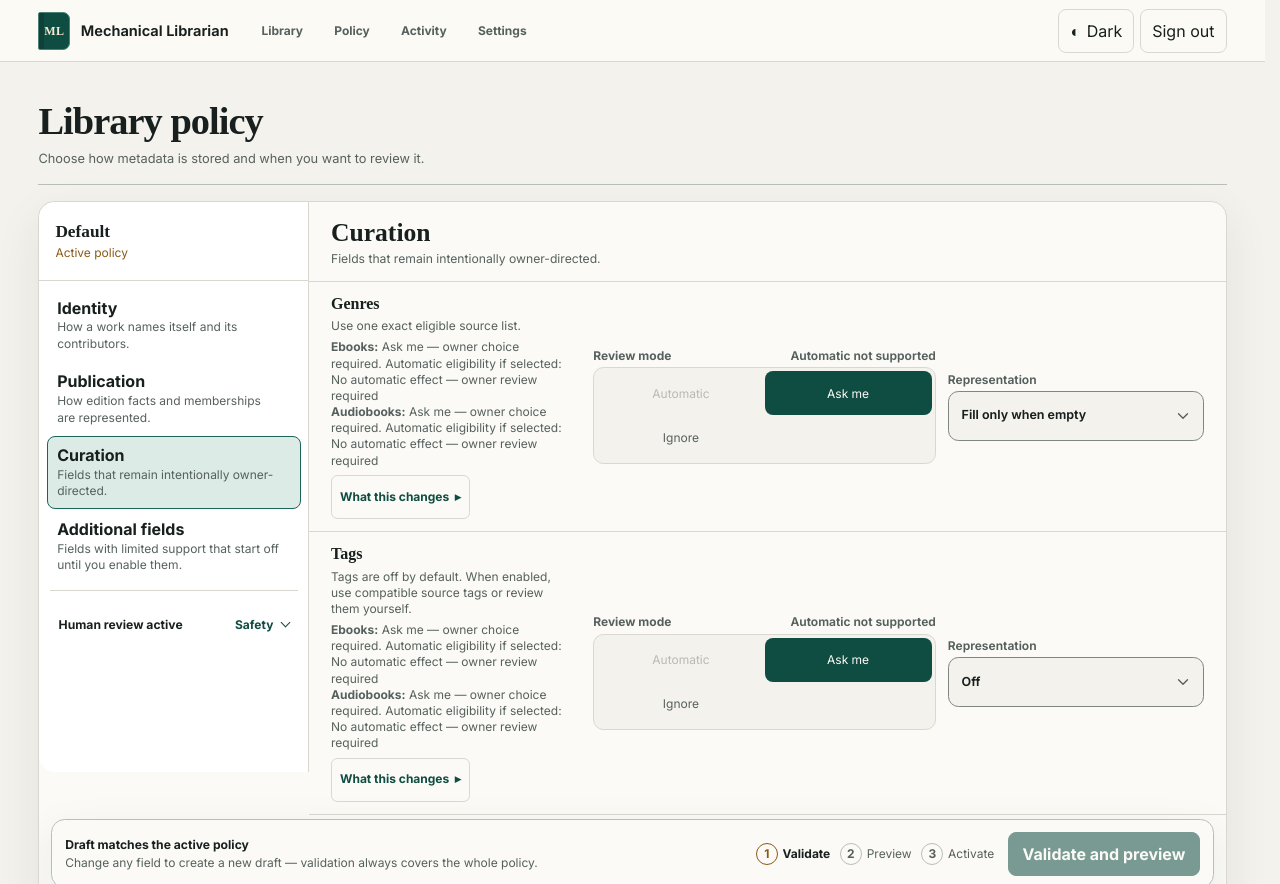
Test: Policy route › a failed snapshot save › keeps the invalid-draft copy for a refused snapshot
The image size is (1280, 884).
Step 1. Click the 2nd button "Ignore" → [681, 704], box [597,682,764,726]
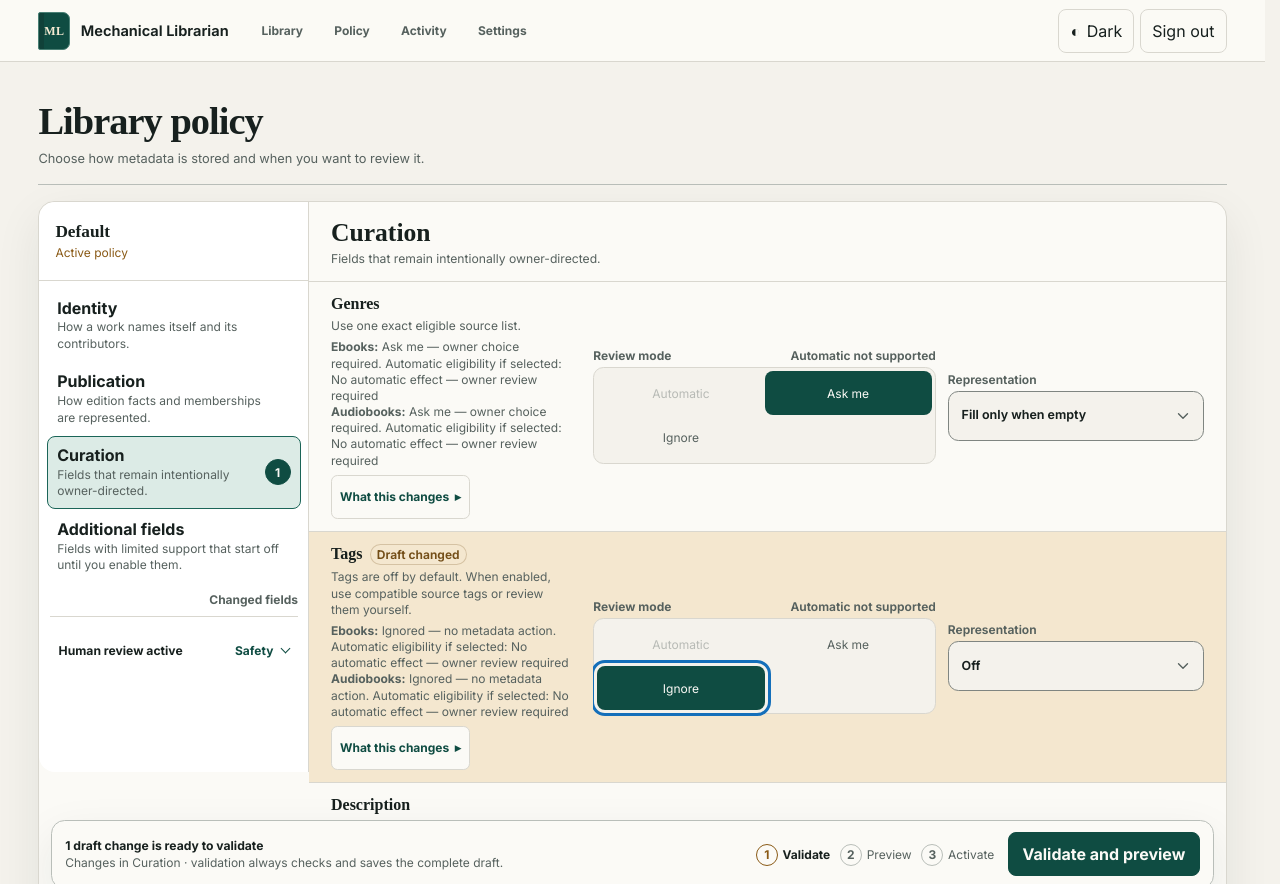
Step 2. Click the button "Validate and preview" → [1104, 854], box [1008,832,1200,876]
(page scrolled)
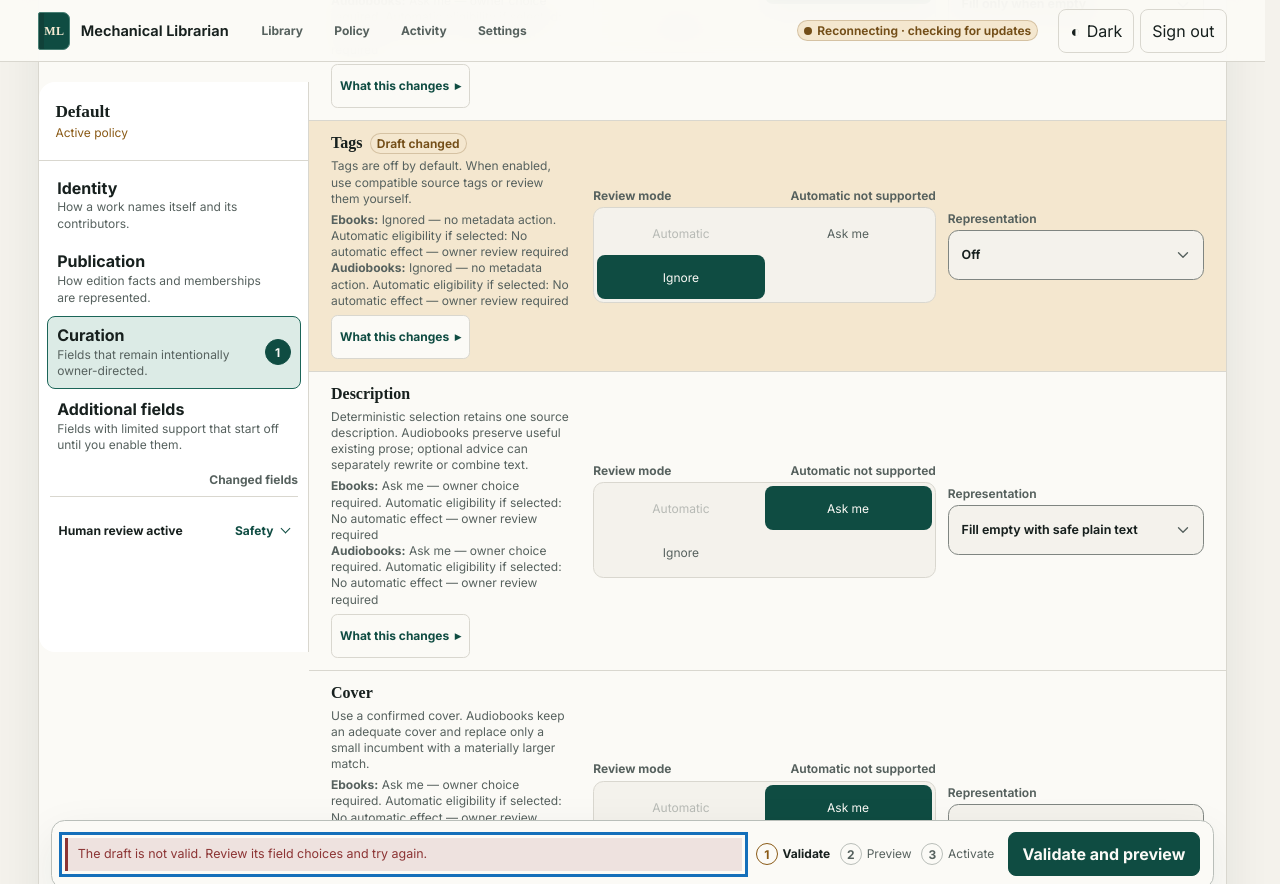
Check: the text "The draft is not valid. Review its field choices and try again." is shown, box [65,838,742,871]
